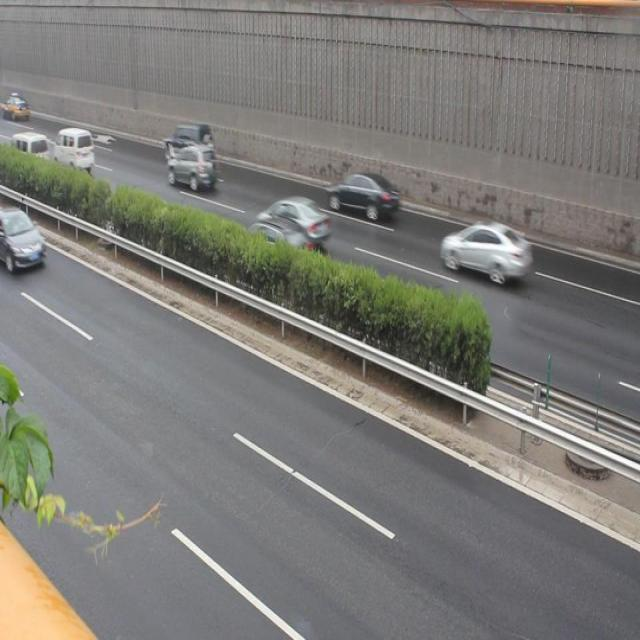car: (440, 216, 530, 283), (238, 219, 316, 278), (326, 170, 398, 222), (257, 196, 330, 241), (0, 203, 44, 276), (168, 143, 216, 195), (161, 124, 211, 172)
truck: (54, 127, 95, 172)
